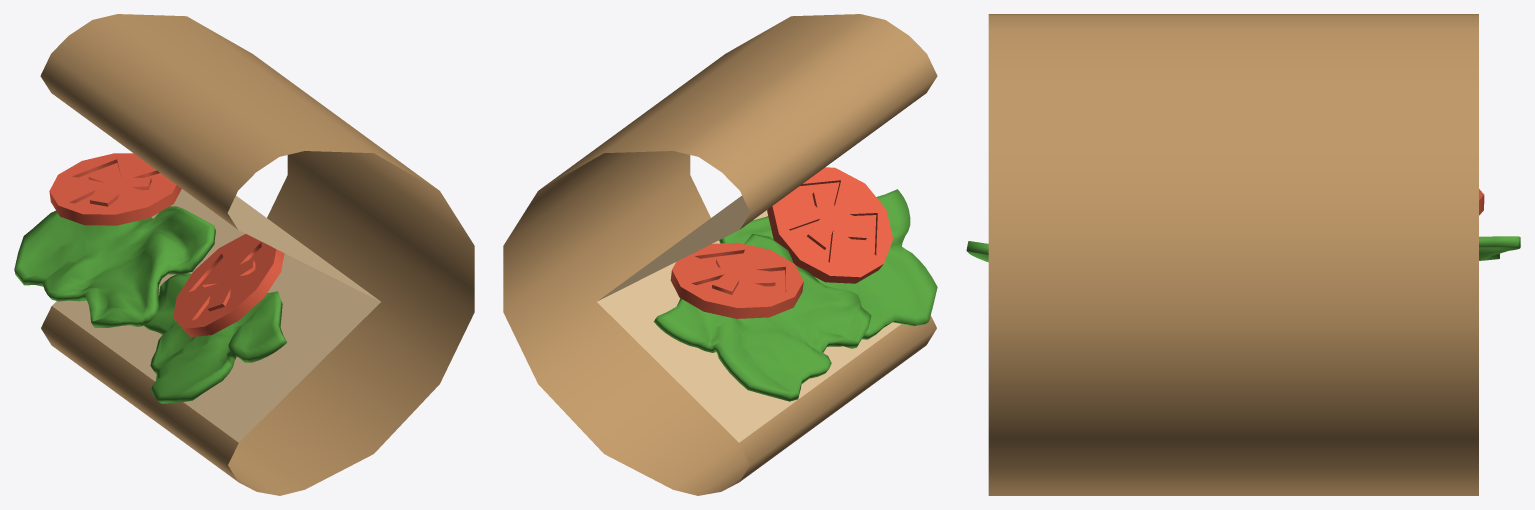
Rendered from Sandwhich 1.fbx.
3 renders of one model, left to right at view 1: azimuth 30°, elevation 25°; view 2: azimuth 150°, elevation 25°; view 3: azimuth 270°, elevation 25°, orthographic. The views are drawn at different scales.
Visible parts, largest first — view 1: Sandwhich_001; view 2: Sandwhich_001; view 3: Sandwhich_001.
Part boxes in pixels (<box>): Sandwhich_001: <box>14,14,474,495</box>; Sandwhich_001: <box>503,14,937,495</box>; Sandwhich_001: <box>966,14,1520,495</box>.
Bounding box in the file's own units: 20.84 × 23.88 × 26.98.
